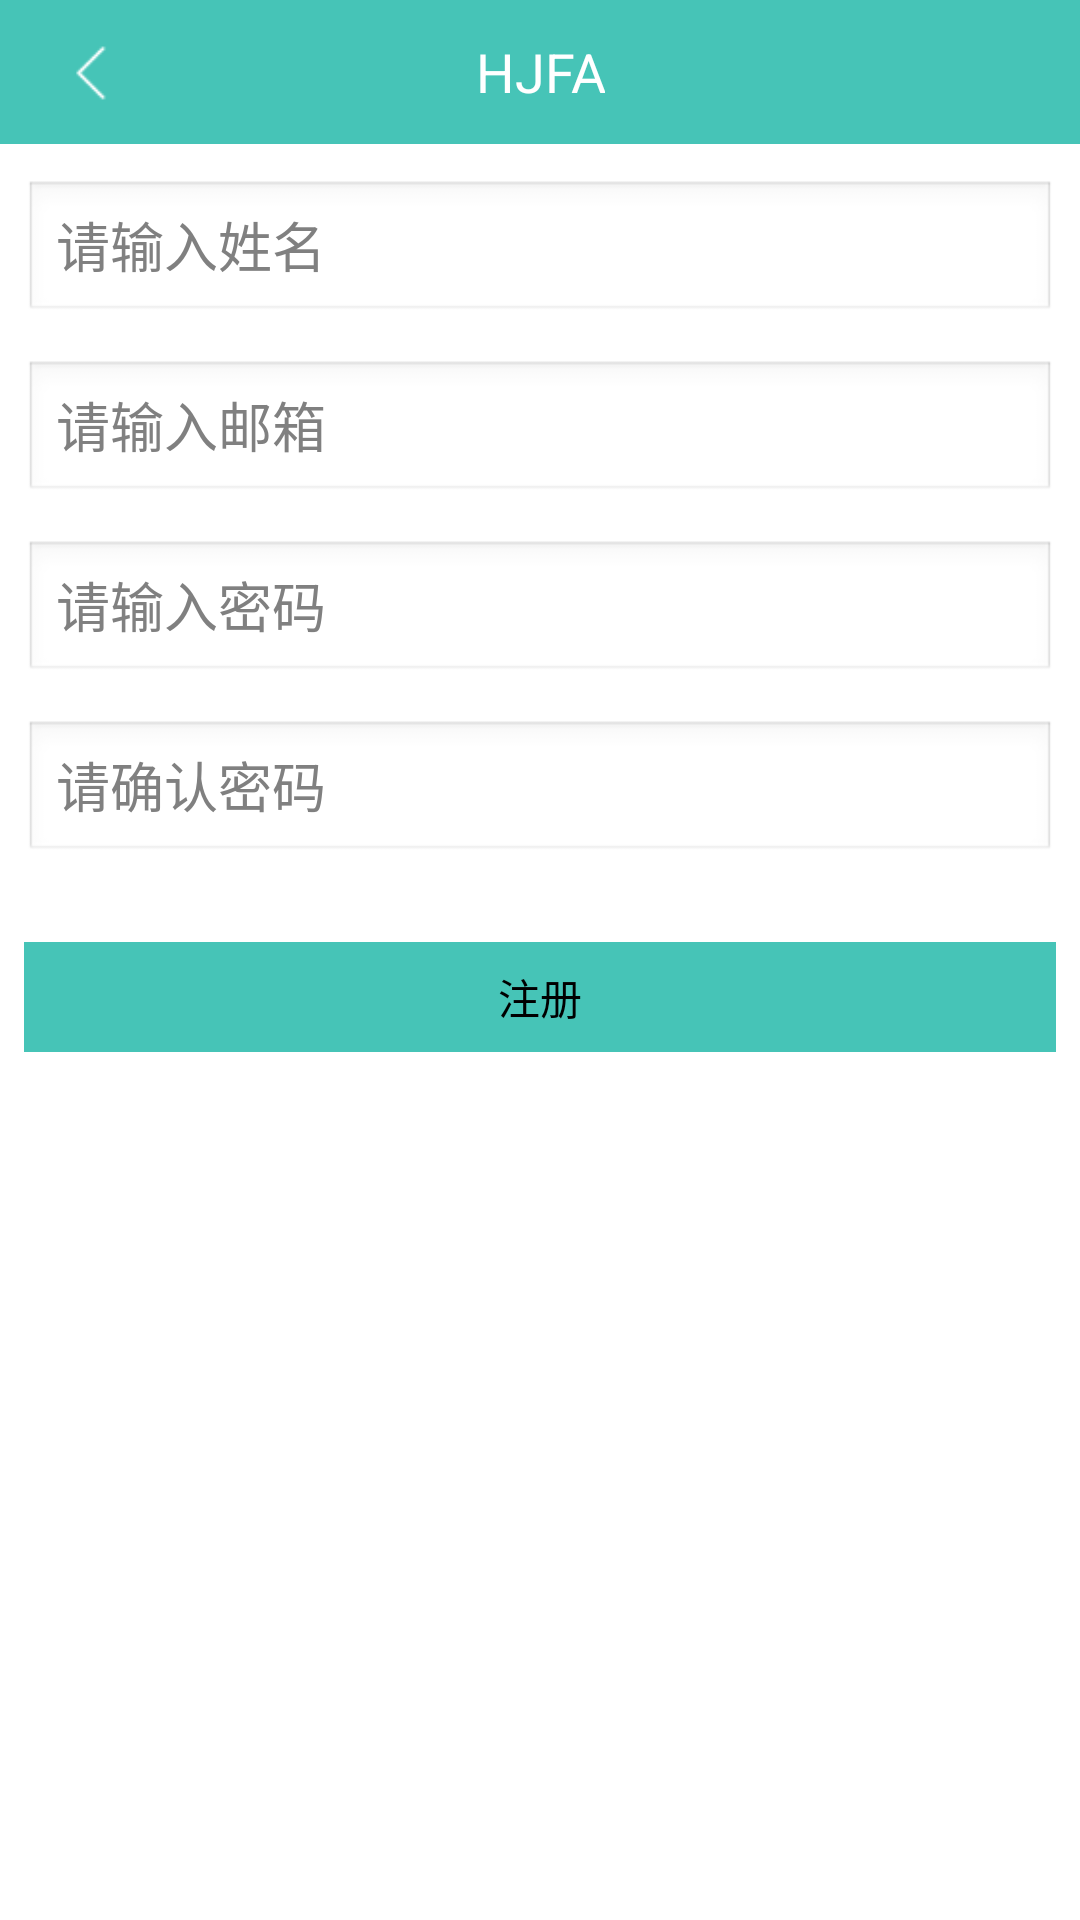

Screen size 1080*1920. Icon name, then its box in pixels as (x1, y1, x2, y2):
top back: (76, 46, 106, 100)
